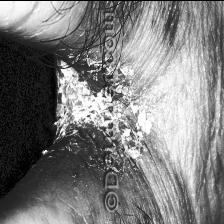Toxin: (58, 60, 103, 136), (127, 103, 152, 140)
